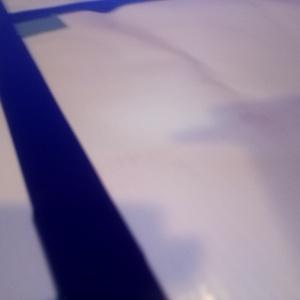bottom_right: (1, 14, 67, 37)
